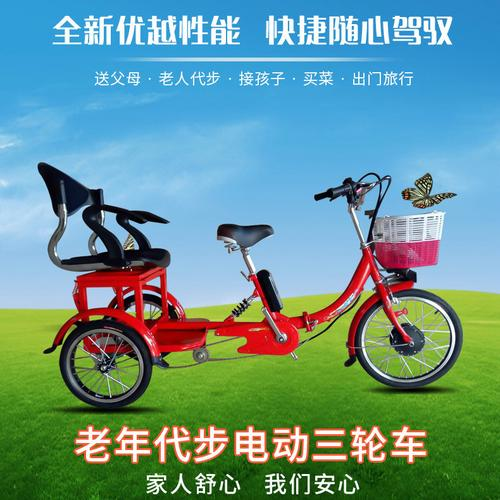empty: (5, 154, 497, 414)
